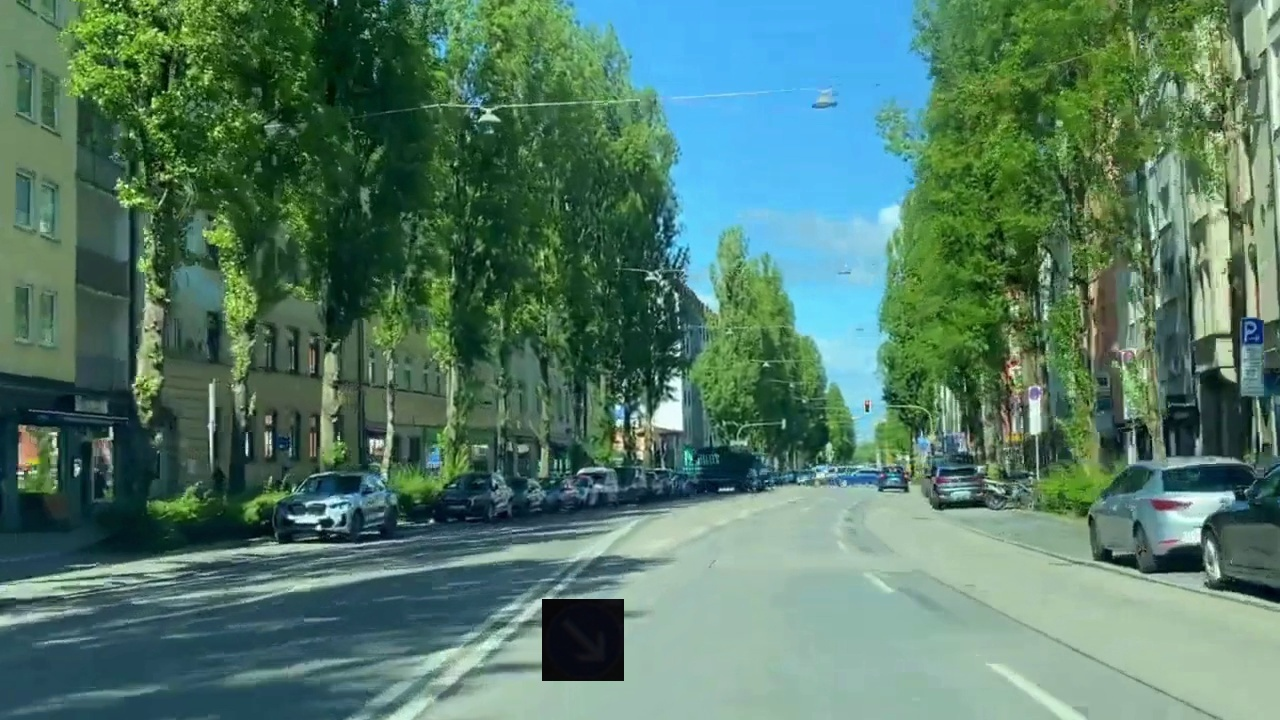Keep right: (542, 599, 624, 681)
